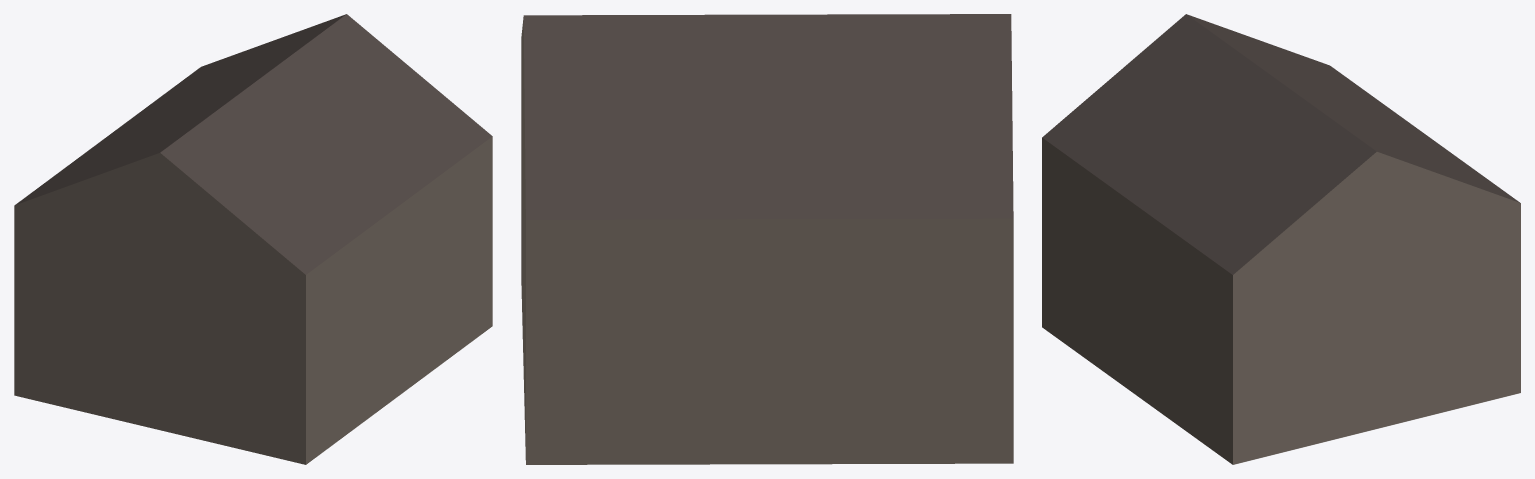
3 views of the same model, side by side, from view 1: azimuth 30°, elevation 25°; view 2: azimuth 150°, elevation 25°; view 3: azimuth 270°, elevation 25° (orthographic). The views are drawn at different scales.
Parts seen in each view (by area): view 1: HP-w859424136; view 2: HP-w859424136; view 3: HP-w859424136.
Part boxes in pixels (left/top/right/bottom): HP-w859424136: left=14, top=14, right=492, bottom=464; HP-w859424136: left=521, top=14, right=1013, bottom=464; HP-w859424136: left=1042, top=14, right=1520, bottom=464.
Bounding box in the file's own units: 14.21 × 8.77 × 13.72.
